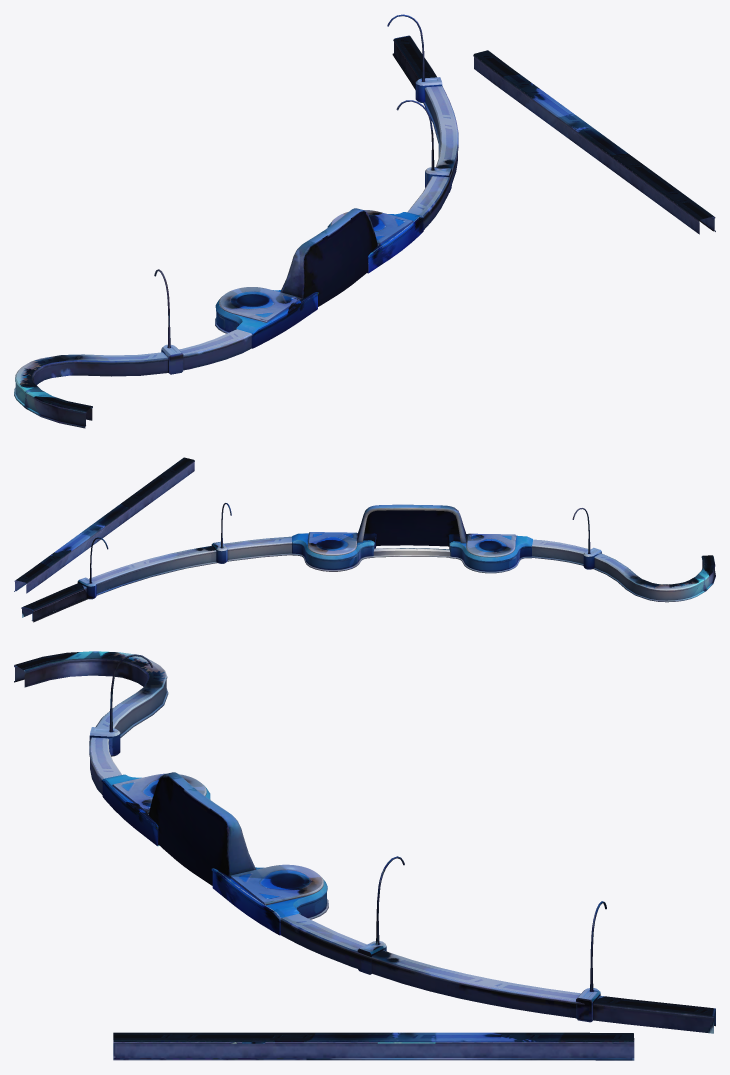
Rendered from pref_sm_4v4beachtech_WSJ_bk_topblock_L01a_lv2.fbx.
3 renders of one model, top to bottom at view 1: azimuth 30°, elevation 25°; view 2: azimuth 150°, elevation 25°; view 3: azimuth 270°, elevation 25°, orthographic. The views are drawn at different scales.
Parts seen in each view (by area): view 1: pref_sm_4v4beachtech_WSJ_bk_topblock_L01a_lv2; view 2: pref_sm_4v4beachtech_WSJ_bk_topblock_L01a_lv2; view 3: pref_sm_4v4beachtech_WSJ_bk_topblock_L01a_lv2.
Part boxes in pixels (x1=…): pref_sm_4v4beachtech_WSJ_bk_topblock_L01a_lv2: x1=14, y1=14, x2=715, y2=428; pref_sm_4v4beachtech_WSJ_bk_topblock_L01a_lv2: x1=14, y1=457, x2=715, y2=622; pref_sm_4v4beachtech_WSJ_bk_topblock_L01a_lv2: x1=14, y1=651, x2=715, y2=1060.
Size of the model in its own units: 42.31 by 5.07 by 32.04.
